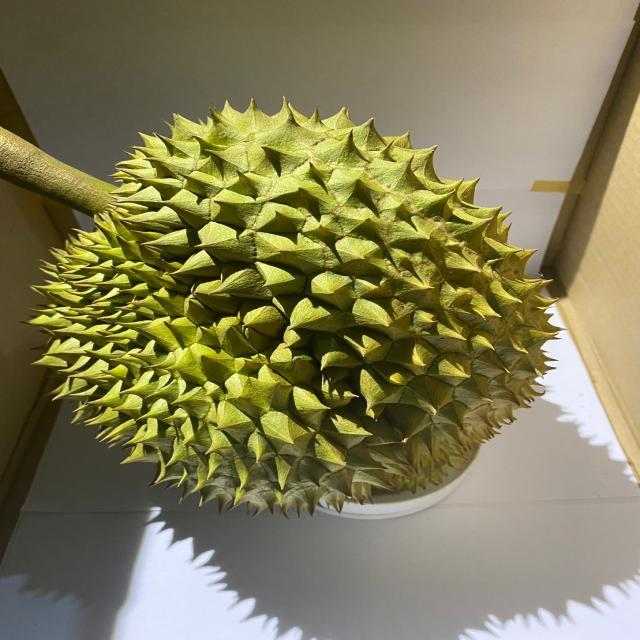immature: (23, 97, 565, 523)
